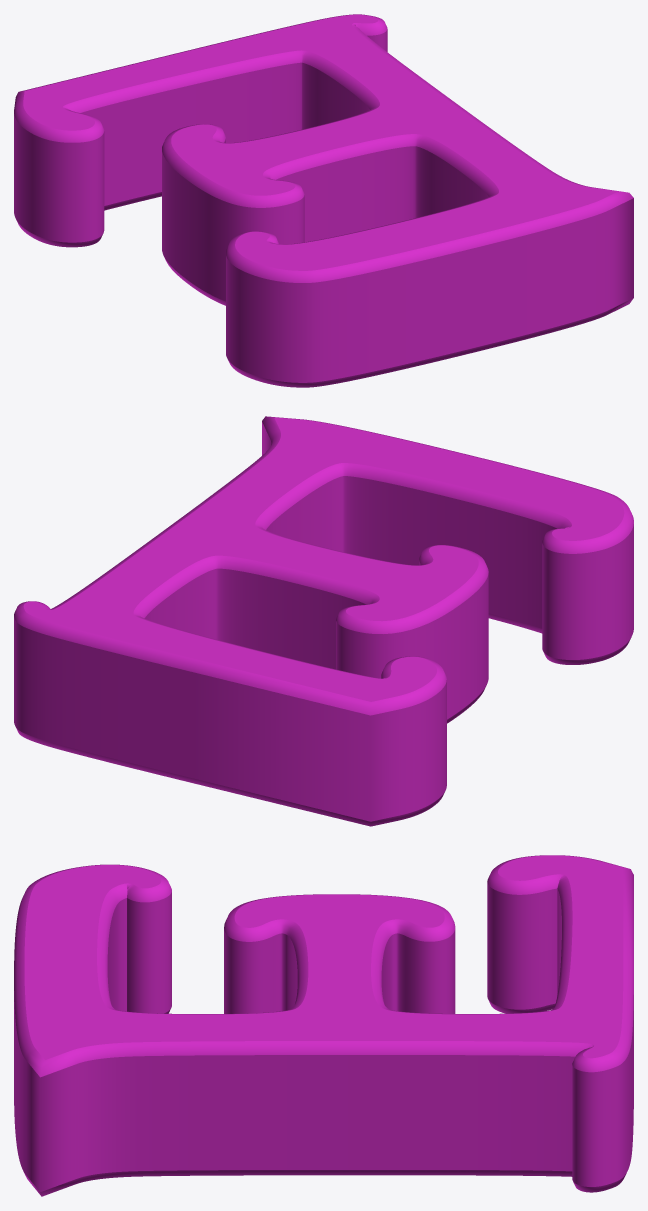
The model's file is Letter_E.fbx.
The picture shows the model from 3 angles, top to bottom: view 1: azimuth 30°, elevation 25°; view 2: azimuth 150°, elevation 25°; view 3: azimuth 270°, elevation 25°; orthographic projection. The views are drawn at different scales.
Parts seen in each view (by area): view 1: Letter_E; view 2: Letter_E; view 3: Letter_E.
Boxes of the visible parts, x1,y1,x2,y2 form: Letter_E: (14, 14, 633, 387); Letter_E: (14, 416, 633, 826); Letter_E: (14, 855, 633, 1196).
Bounding box in the file's own units: 0.4859 × 0.14 × 0.5872.
